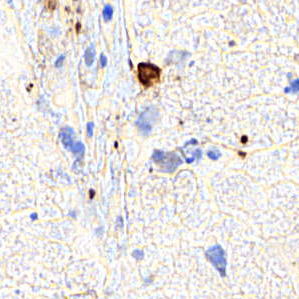Lymphocyte: (137, 61, 162, 87)
